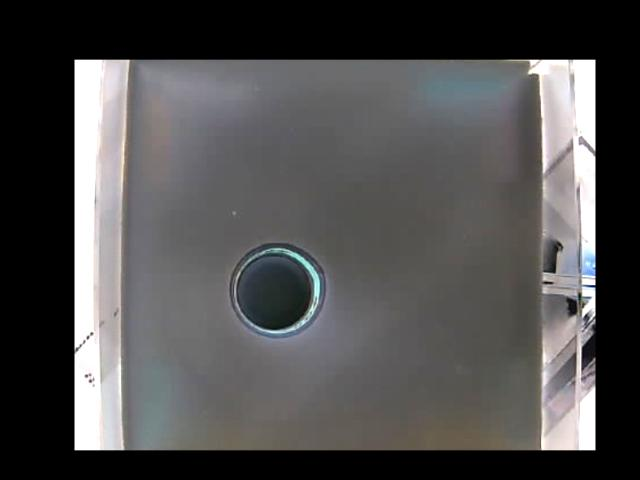Cup: (228, 237, 326, 336)
